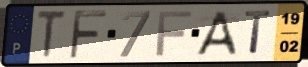7: (119, 10, 152, 59)
A: (193, 9, 239, 57)
F: (67, 9, 110, 61), (155, 10, 195, 58)
T: (36, 9, 68, 61), (243, 9, 273, 56)
